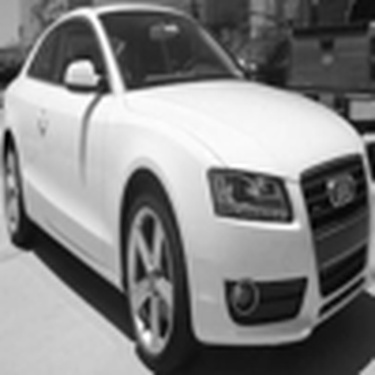car: (8, 9, 373, 373)
